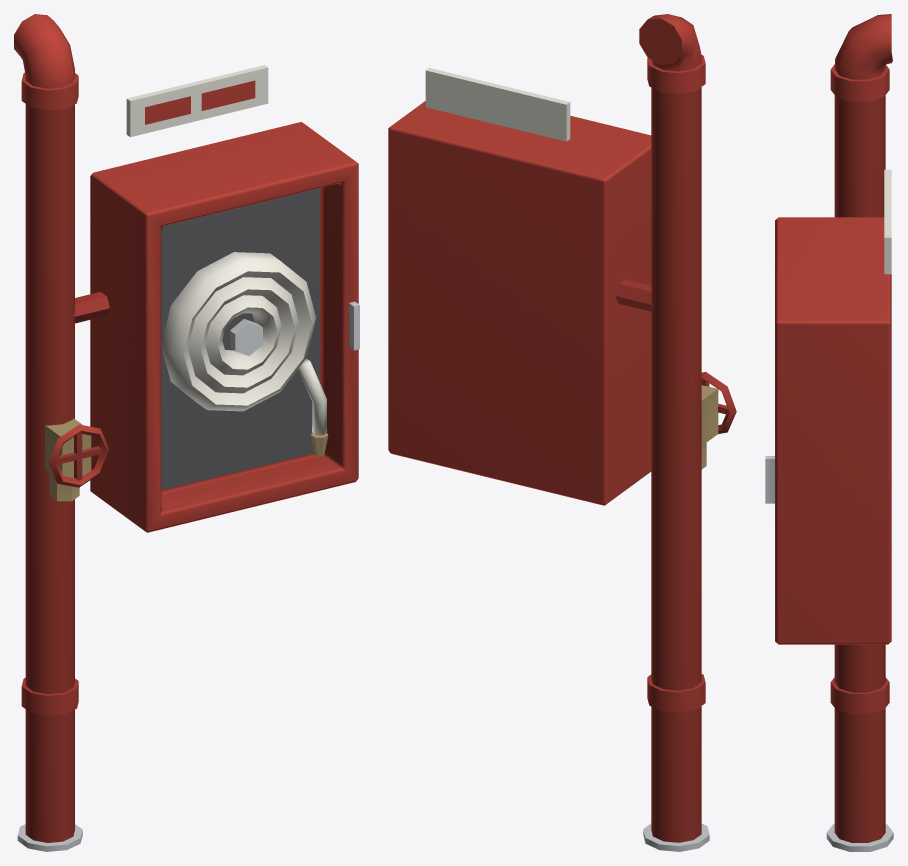
Rendered from standpipe.glb.
The picture shows the model from 3 angles, left to right: view 1: azimuth 30°, elevation 25°; view 2: azimuth 150°, elevation 25°; view 3: azimuth 270°, elevation 25°; orthographic projection. The views are drawn at different scales.
Parts seen in each view (by area): view 1: stairwell_standpipe; view 2: stairwell_standpipe; view 3: stairwell_standpipe.
Boxes of the visible parts, left/top/right/bottom form: stairwell_standpipe: left=14, top=14, right=359, bottom=851; stairwell_standpipe: left=388, top=14, right=736, bottom=851; stairwell_standpipe: left=765, top=14, right=893, bottom=851.
Bounding box in the file's own units: 0.779 × 2.03 × 0.287.
